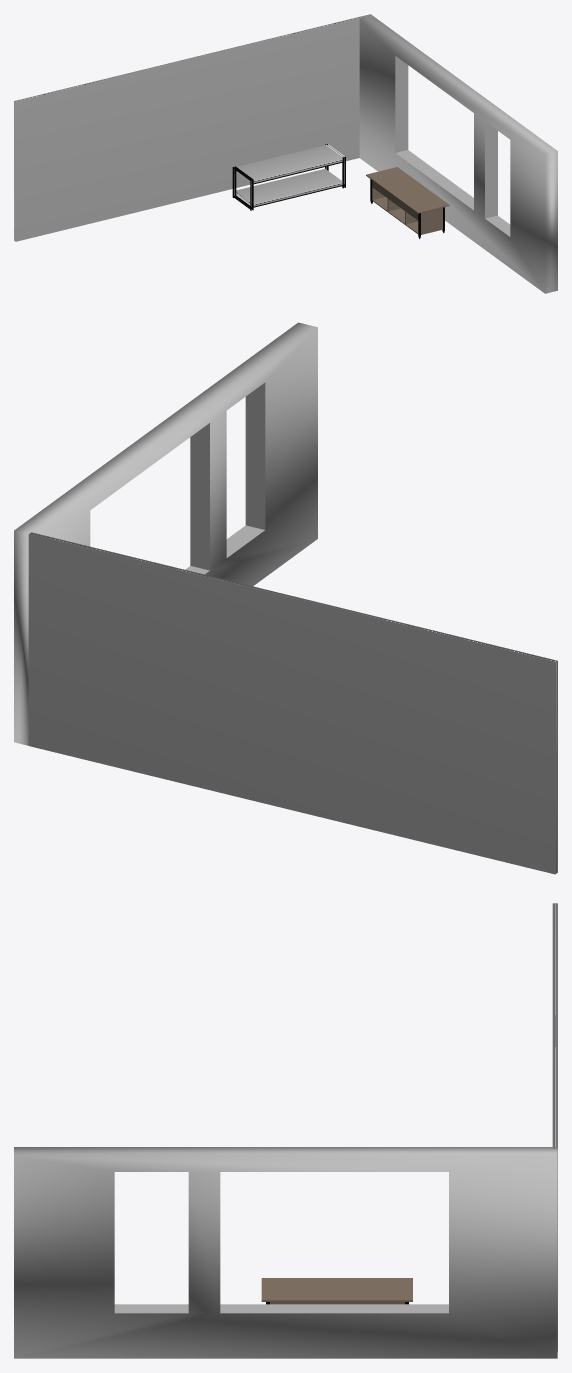
The model's file is room.glb.
3 views of the same model, one above another, from view 1: azimuth 30°, elevation 25°; view 2: azimuth 150°, elevation 25°; view 3: azimuth 270°, elevation 25° (orthographic). The views are drawn at different scales.
Parts seen in each view (by area): view 1: pCube21, polySurface1, polySurface51, polySurface2, polySurface54, polySurface60, polySurface58, polySurface55; view 2: pCube21, polySurface1; view 3: polySurface1, polySurface54, pCube21.
Part boxes in pixels (x1,y1,x2,y2): pCube21: (14,16,361,241); polySurface1: (359,14,557,293); polySurface51: (236,168,342,206); polySurface2: (236,145,342,183); polySurface54: (366,167,449,213); polySurface60: (421,207,442,234); polySurface58: (372,197,418,234); polySurface55: (372,180,418,220); pCube21: (28,532,557,874); polySurface1: (14,322,317,745); polySurface1: (14,1147,557,1358); polySurface54: (261,1278,412,1301); pCube21: (552,903,557,1351).
Size of the model in its own units: 0.2436 by 0.0911 by 0.2217.
